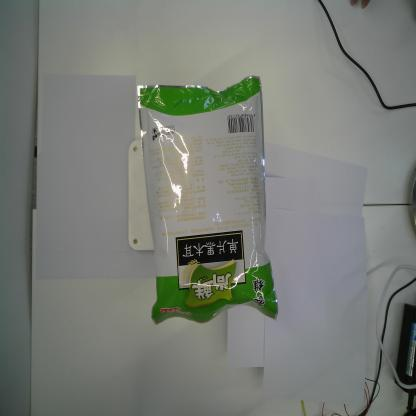Dried Food: (136, 74, 279, 327)
